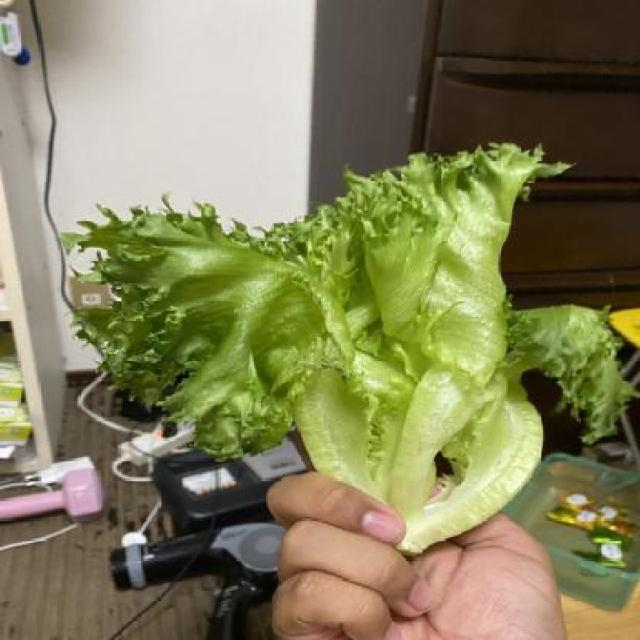Lettuce: (63, 142, 638, 540)
